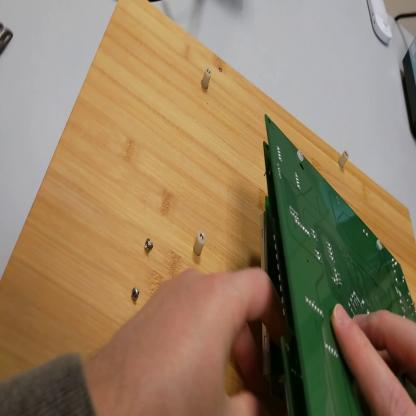hand: (94, 265, 285, 415), (332, 302, 416, 415)
low voltage board: (264, 118, 414, 414)
pliers: (3, 24, 13, 56)
welder station: (403, 24, 415, 141)
working area: (3, 3, 414, 411)
